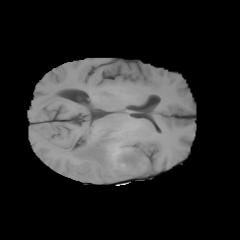glioma: (70, 129, 150, 174)
